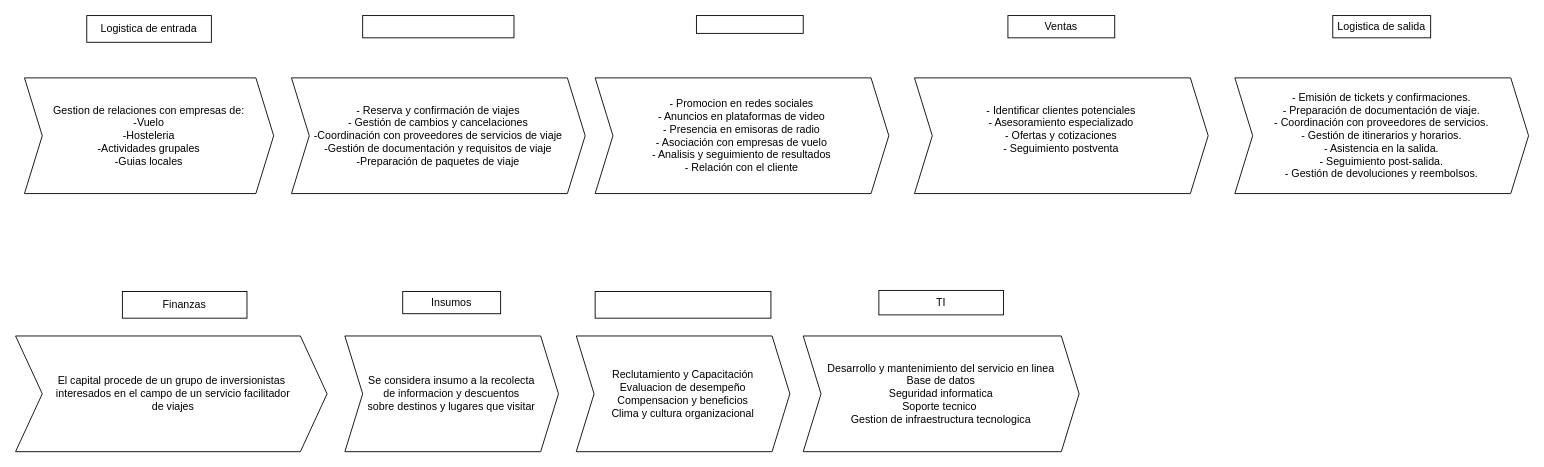
Some shapes in this 1544 by 467 pixel diagram are drawn without their labels. The box of each missing label's shape, as (x1, y1, x2, y2) in pixels:
Gestion de talentos humanos: (594, 291, 771, 318)
Marketing: (696, 15, 803, 33)
Operaciones de coordinación: (362, 15, 514, 38)
